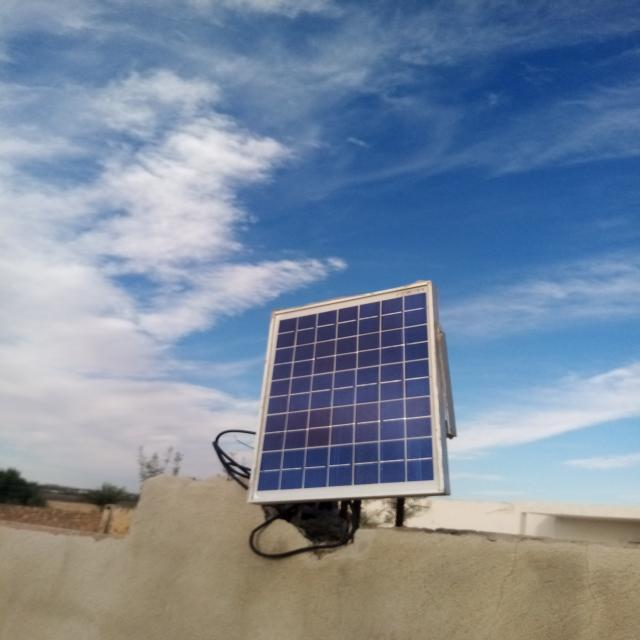no faulty: (249, 283, 444, 500)
